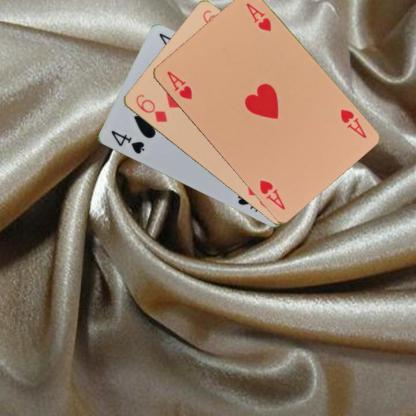4s: (108, 128, 146, 155)
6d: (132, 91, 169, 124)
Ah: (337, 106, 367, 140), (164, 68, 193, 101)
